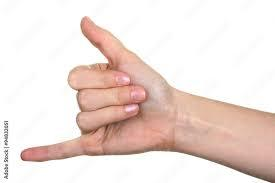Call-Me: (18, 12, 180, 165)
